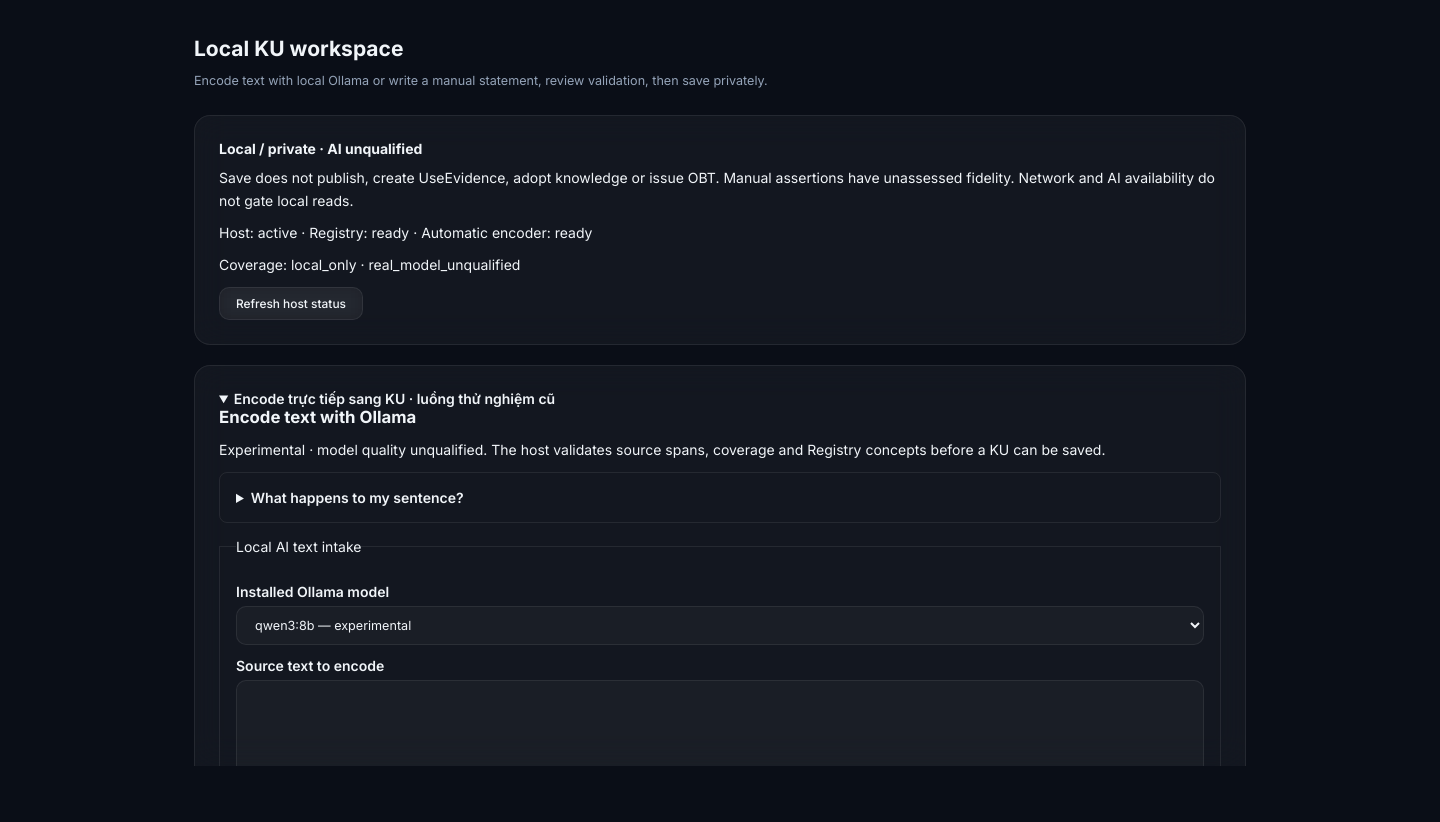
Test: local KU component journey › explains duplicate internal identifiers without implying a transport outage
Type "Water boils." into the text box labelled "Source text to encode". click: x=720, y=736
box: [236,680,1204,792]
(page scrolled)
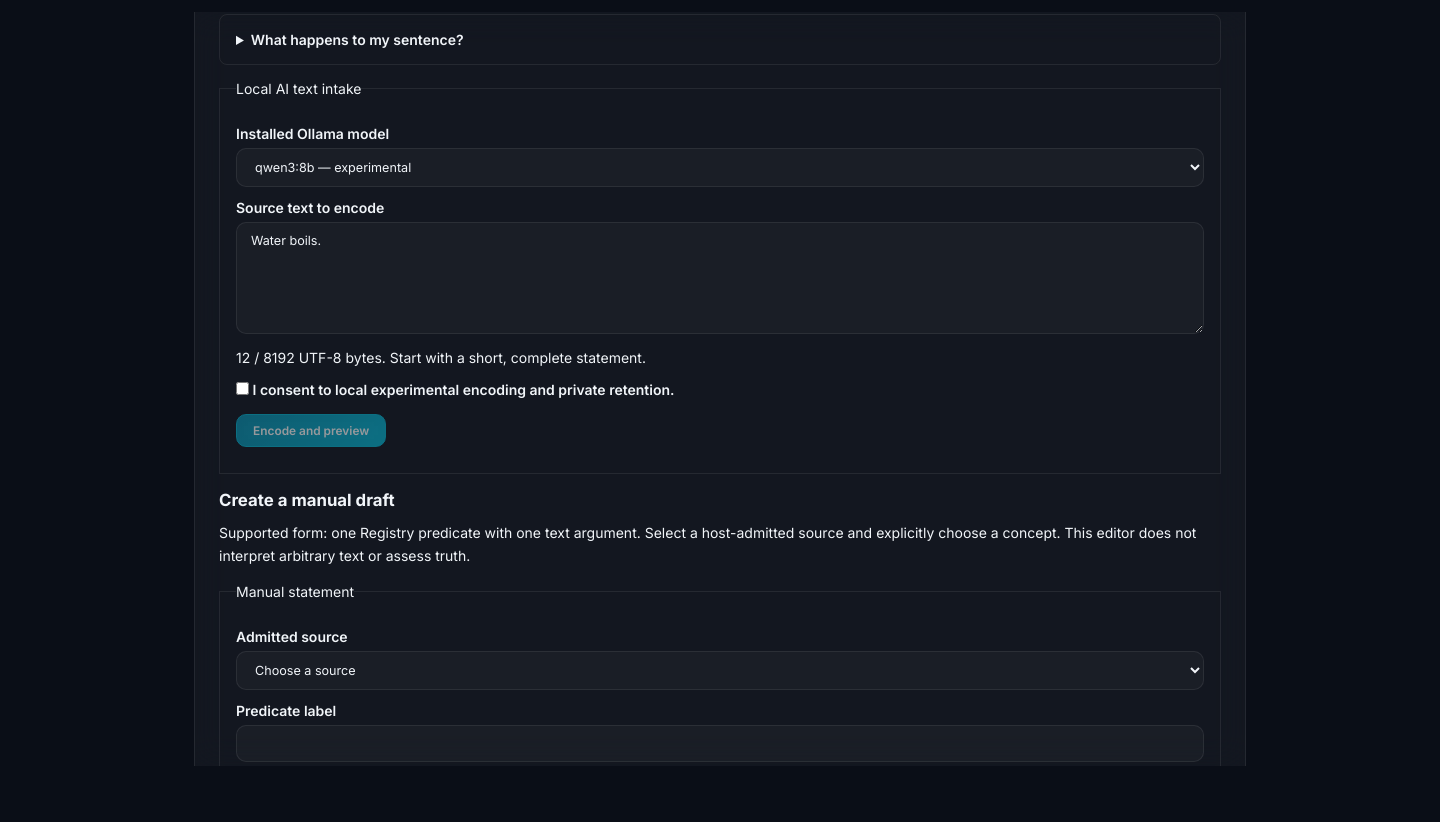
Click the checkbox. click: x=242, y=389
box: [236,382,249,396]
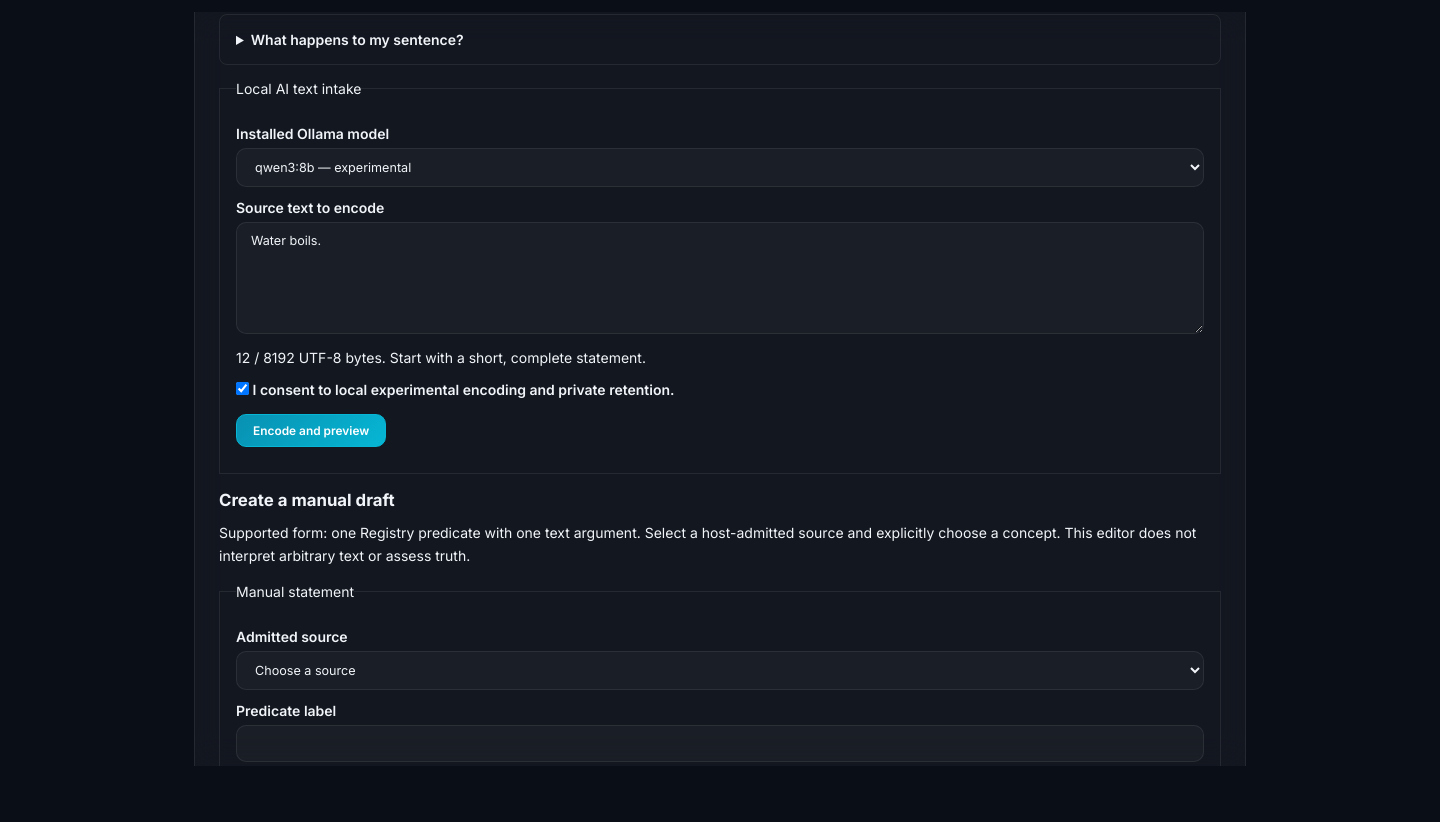
Click the button "Encode and preview". click: x=311, y=431
box: [236,414,386,448]
(page scrolled)
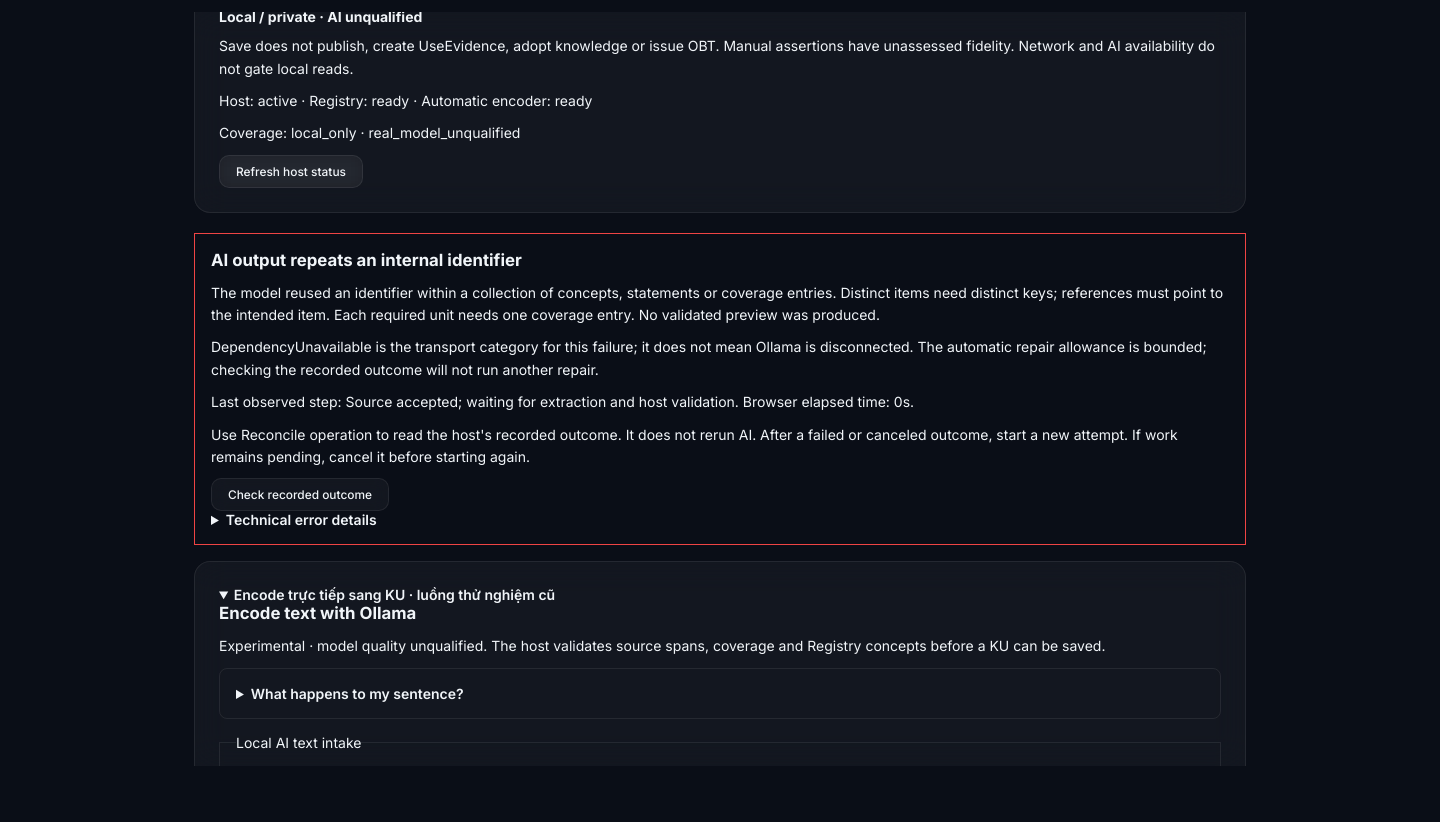
Result: the heading "AI output repeats an internal identifier" is shown at [211,250,522,270]
Result: the message shows "Distinct items need distinct keys" at [211,284,1223,323]
